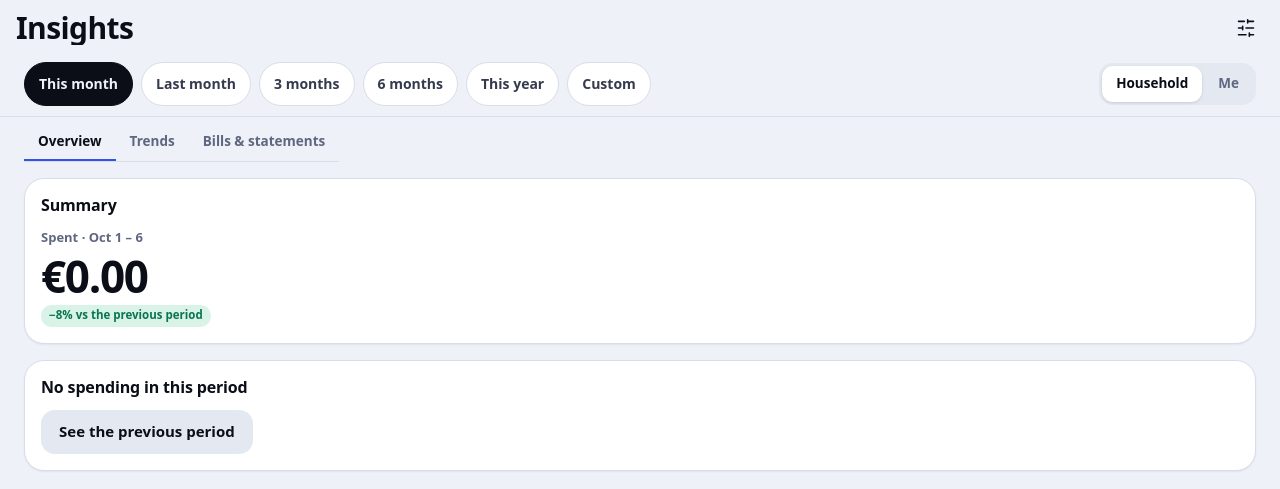
Test case: and in an empty period too
Check: the element showing "No spending in this period See the previous period" is shown, box [24, 360, 1256, 471]
Click the tab "Bills & statements" at (264, 143), box [189, 125, 339, 161]
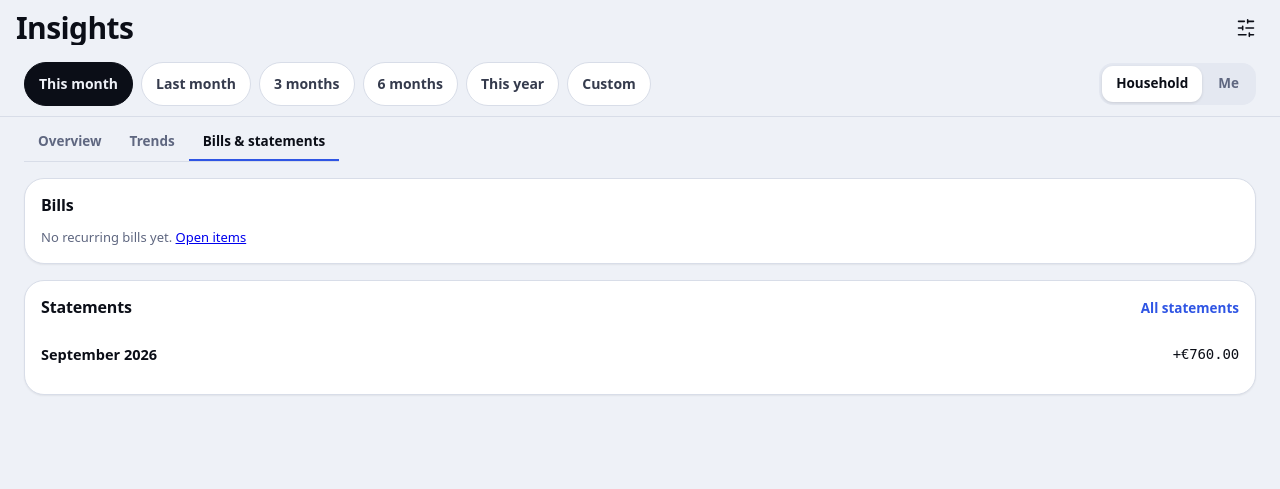
Check: the element "Statements" is shown, box [24, 280, 1256, 395]
